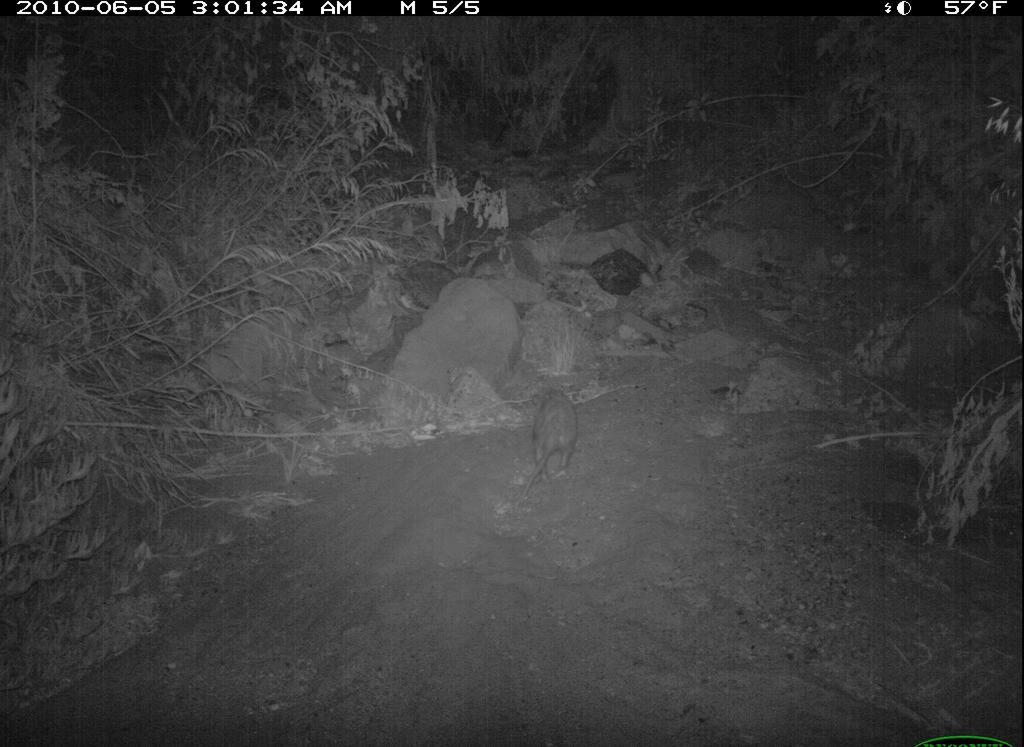opossum: (511, 378, 592, 518)
